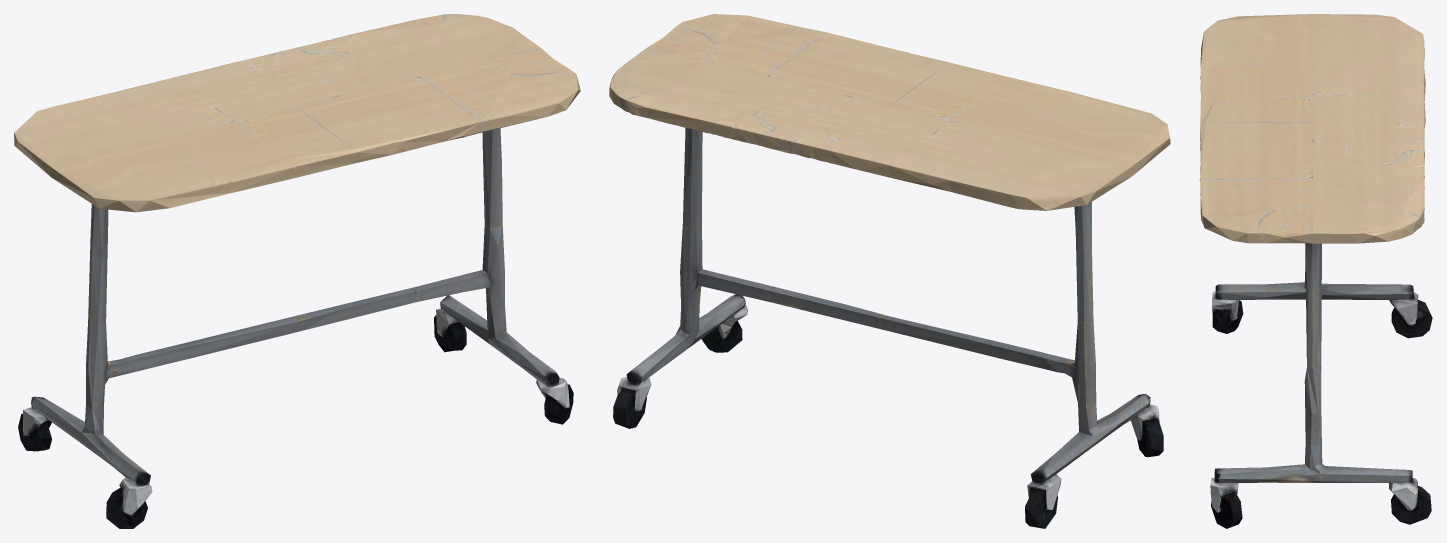
The picture shows the model from 3 angles, left to right: view 1: azimuth 30°, elevation 25°; view 2: azimuth 150°, elevation 25°; view 3: azimuth 270°, elevation 25°; orthographic projection. The views are drawn at different scales.
Parts seen in each view (by area): view 1: geometry_0; view 2: geometry_0; view 3: geometry_0.
Boxes of the visible parts, box(x1,y1,x2,y2) form: geometry_0: box(14, 14, 580, 528); geometry_0: box(609, 14, 1170, 528); geometry_0: box(1199, 14, 1432, 528).
Size of the model in its own units: 1.53 by 0.9989 by 0.6884.
Materials: 1 (1 with a texture image).
